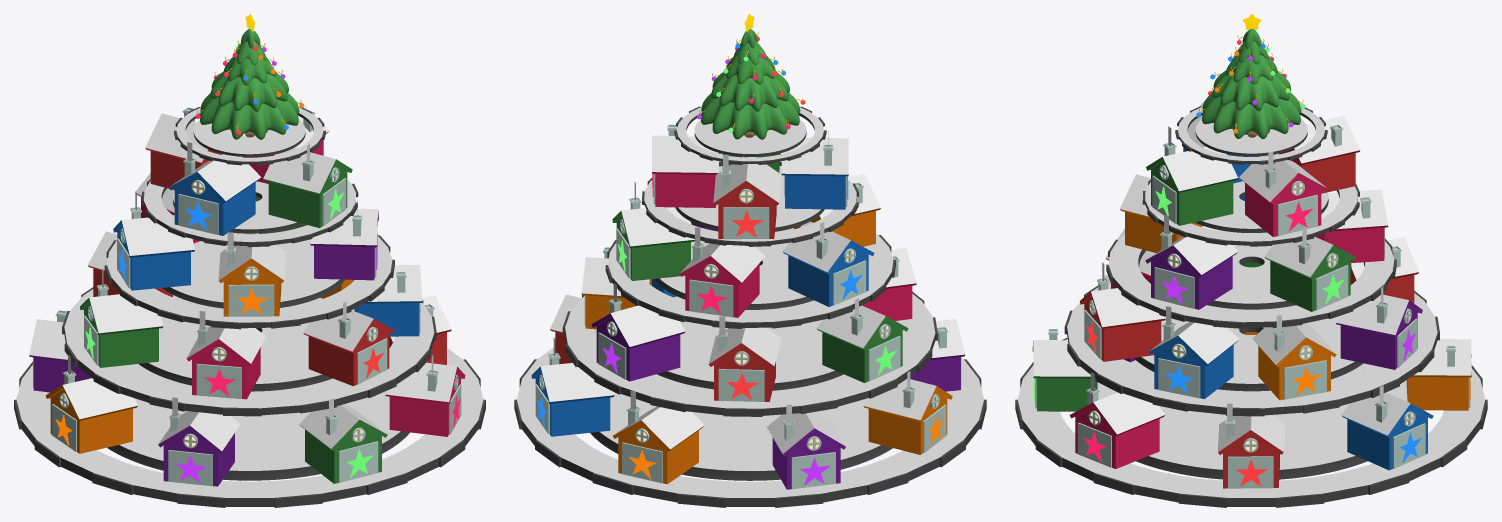
File: AdventCalendar.glb
The picture shows the model from 3 angles, left to right: view 1: azimuth 30°, elevation 25°; view 2: azimuth 150°, elevation 25°; view 3: azimuth 270°, elevation 25°; orthographic projection.
Parts seen in each view (by area): view 1: Floor_0.001, Floor_1.001, Floor_2.001, Floor_0, Floor_1, Floor_4.001, Floor_3.001, Floor_2, Leaves_1, Frame, Frame.022, Frame.011 (+41 smaller); view 2: Floor_0.001, Floor_1.001, Floor_0, Floor_2.001, Floor_1, Floor_4.001, Floor_3.001, Leaves_1, Floor_2, Frame.013, Frame, Frame.006 (+44 smaller); view 3: Floor_0.001, Floor_1.001, Floor_2.001, Floor_0, Floor_1, Floor_4.001, Floor_3.001, Floor_2, Leaves_1, Frame.022, Frame.013, Frame.005 (+45 smaller).
Part boxes in pixels (<box>): Floor_0.001: <box>16,348,483,497</box>; Floor_1.001: <box>64,289,434,408</box>; Floor_2.001: <box>107,233,392,322</box>; Floor_0: <box>14,359,485,507</box>; Floor_1: <box>62,287,436,416</box>; Floor_4.001: <box>176,107,323,161</box>; Floor_3.001: <box>144,157,355,241</box>; Floor_2: <box>104,235,394,329</box>; Leaves_1: <box>200,93,299,139</box>; Frame: <box>45,385,137,453</box>; Frame.022: <box>263,159,352,228</box>; Frame.011: <box>80,298,163,367</box>; Floor_0.001: <box>517,347,983,497</box>; Floor_1.001: <box>565,294,935,408</box>; Floor_0: <box>514,359,986,507</box>; Floor_2.001: <box>608,228,893,322</box>; Floor_1: <box>562,291,937,416</box>; Floor_4.001: <box>677,107,823,161</box>; Floor_3.001: <box>644,153,856,241</box>; Leaves_1: <box>701,93,800,139</box>; Floor_2: <box>605,235,895,328</box>; Frame.013: <box>591,313,685,381</box>; Frame: <box>863,386,952,454</box>; Frame.006: <box>531,366,614,436</box>; Floor_0.001: <box>1017,335,1485,497</box>; Floor_1.001: <box>1067,280,1437,408</box>; Floor_2.001: <box>1108,230,1394,322</box>; Floor_0: <box>1015,337,1487,507</box>; Floor_1: <box>1064,285,1439,416</box>; Floor_4.001: <box>1178,107,1324,160</box>; Floor_3.001: <box>1145,181,1357,241</box>; Floor_2: <box>1106,238,1396,328</box>; Leaves_1: <box>1202,92,1301,138</box>; Frame.022: <box>1146,157,1237,225</box>; Frame.013: <box>1335,300,1422,369</box>; Frame.005: <box>1069,402,1164,468</box>.
Bounding box in the file's own units: 1.85 × 1.71 × 1.86.
